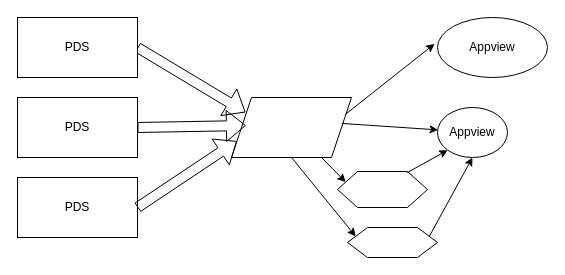
Some shapes in this 565 by 275 pixel diagram are drawn without their labels. The shapes that lost their labels are listed below. From the top down, each one's centre as x and y in pixels, then its label:
At point (291, 127): "Relay".
At point (382, 189): "Feed Generator".
At point (392, 242): "Labeller".
